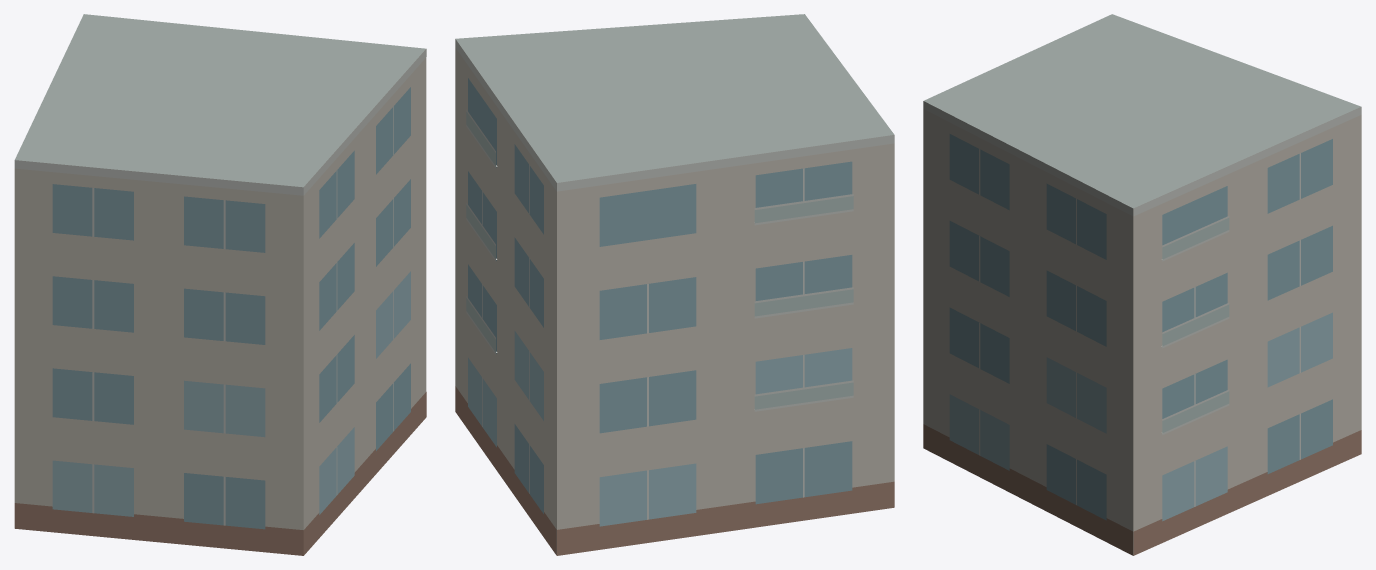
The model's file is survey-upis-32491483.glb.
3 views of the same model, side by side, from view 1: azimuth 30°, elevation 25°; view 2: azimuth 150°, elevation 25°; view 3: azimuth 270°, elevation 25° (orthographic). The views are drawn at different scales.
Visible parts, largest first — view 1: survey-upis-32491483.tmp; view 2: survey-upis-32491483.tmp; view 3: survey-upis-32491483.tmp.
Boxes of the visible parts, box(x1,y1,x2,y2) form: survey-upis-32491483.tmp: box(14, 14, 426, 555); survey-upis-32491483.tmp: box(455, 14, 894, 555); survey-upis-32491483.tmp: box(923, 14, 1361, 555).
Bounding box in the file's own units: 12.71 × 10.57 × 12.1.
